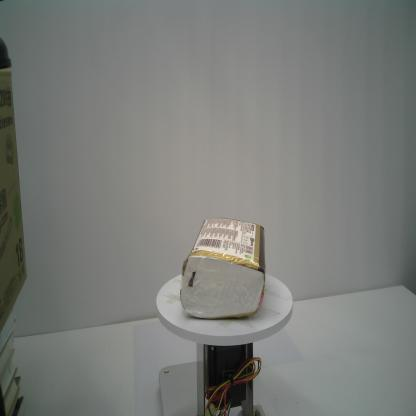Tissue: (180, 217, 266, 319)
